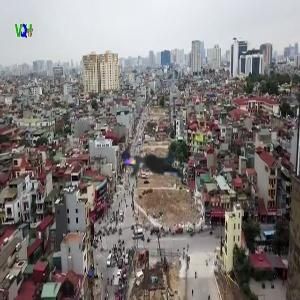drone: (12, 25, 280, 293)
